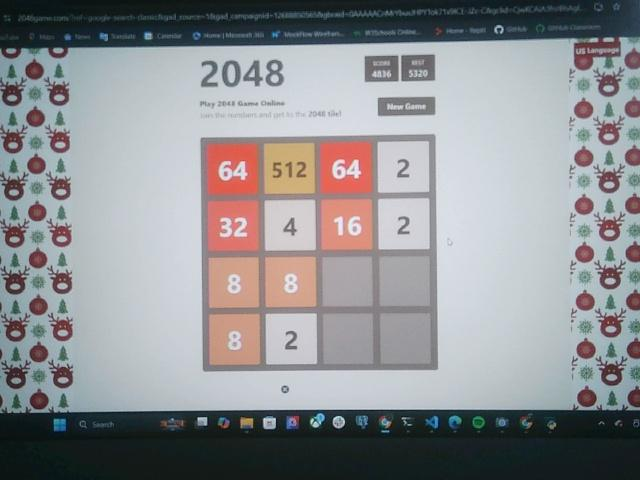board: (202, 135, 437, 370)
tile: (377, 141, 431, 193), (265, 199, 317, 251), (266, 313, 318, 365), (319, 143, 372, 194), (208, 199, 259, 250), (322, 200, 373, 251), (209, 257, 260, 308), (266, 257, 317, 308), (209, 315, 260, 366), (379, 199, 429, 250), (208, 143, 258, 193), (265, 143, 314, 193)
